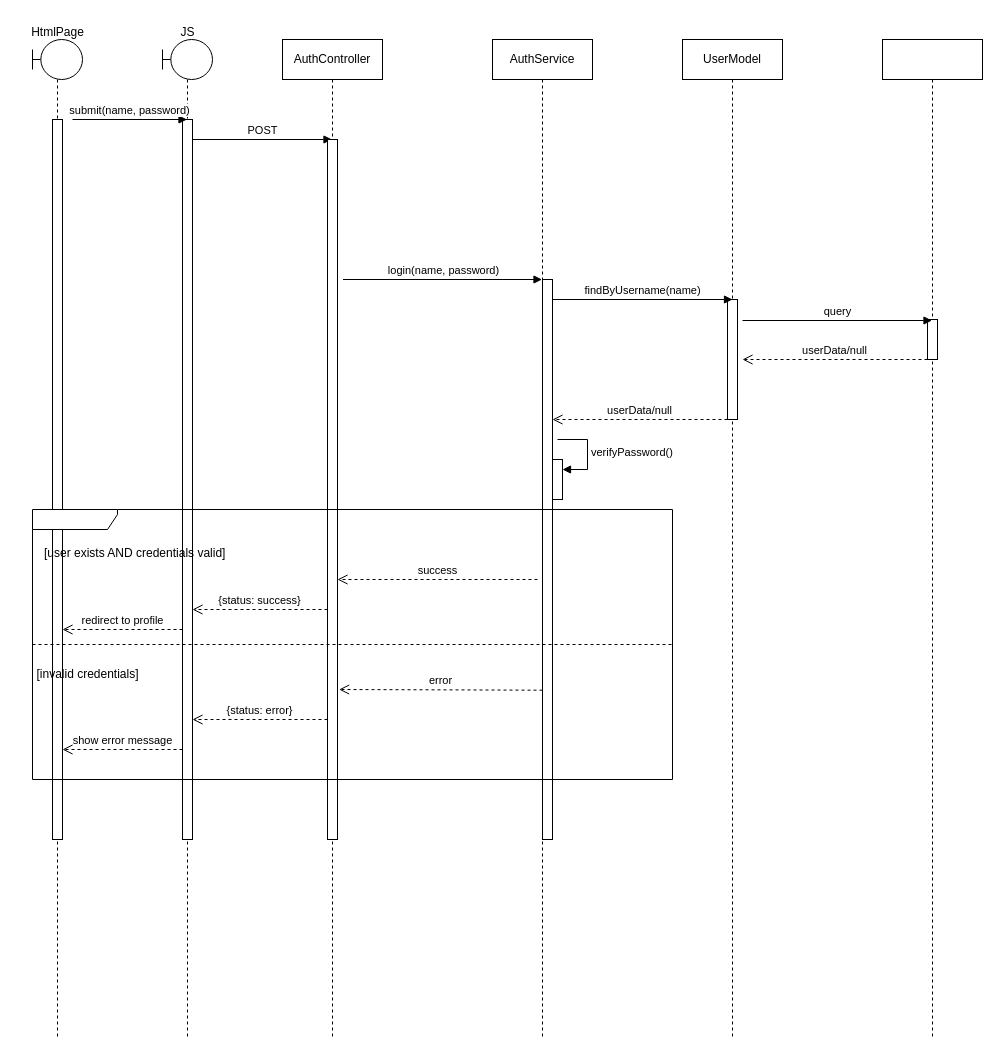
Some shapes in this 1000 by 1057 pixel diagram are drawn without their labels. Here are the shapes that lost their labels. From the top down, the box of each, then its label:
(882, 38, 982, 1040): Database
(32, 508, 672, 780): alt
